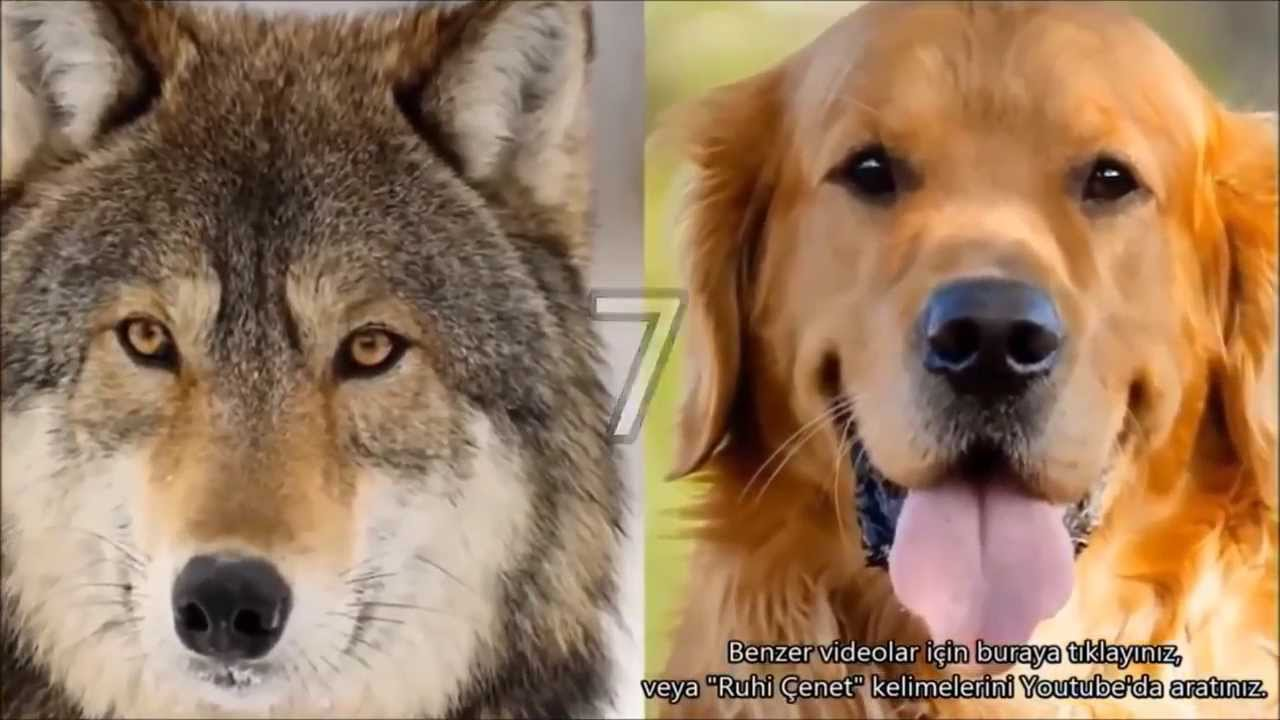dog: (682, 6, 1280, 642)
wolf: (1, 6, 628, 710)
